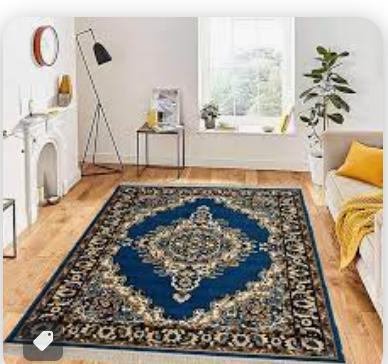carpet: (7, 184, 342, 361)
